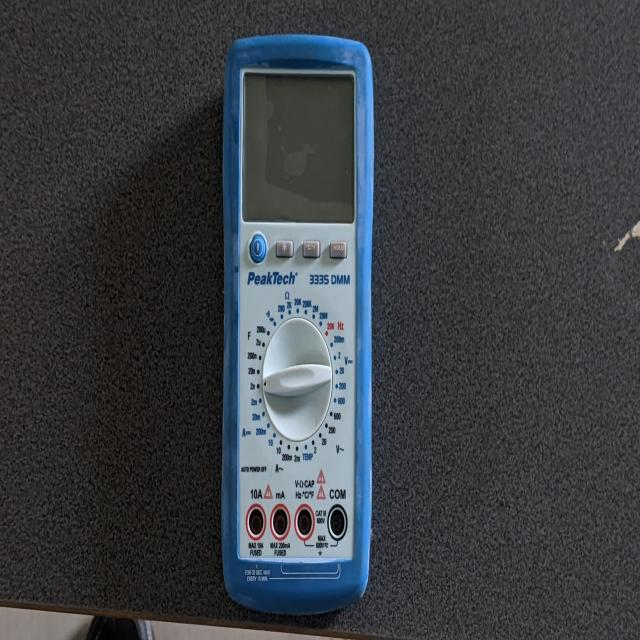Digital Multimeter: (217, 32, 379, 608)
